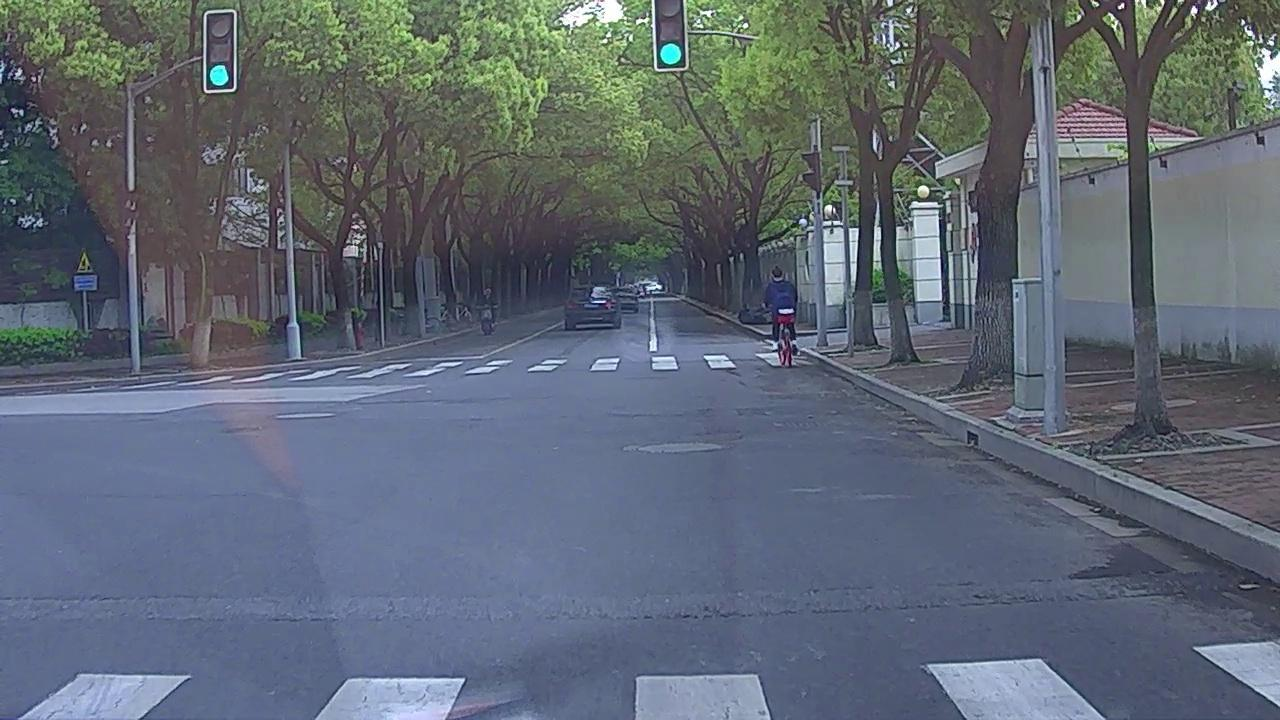traffic_light: (652, 1, 687, 68), (209, 11, 233, 92)
